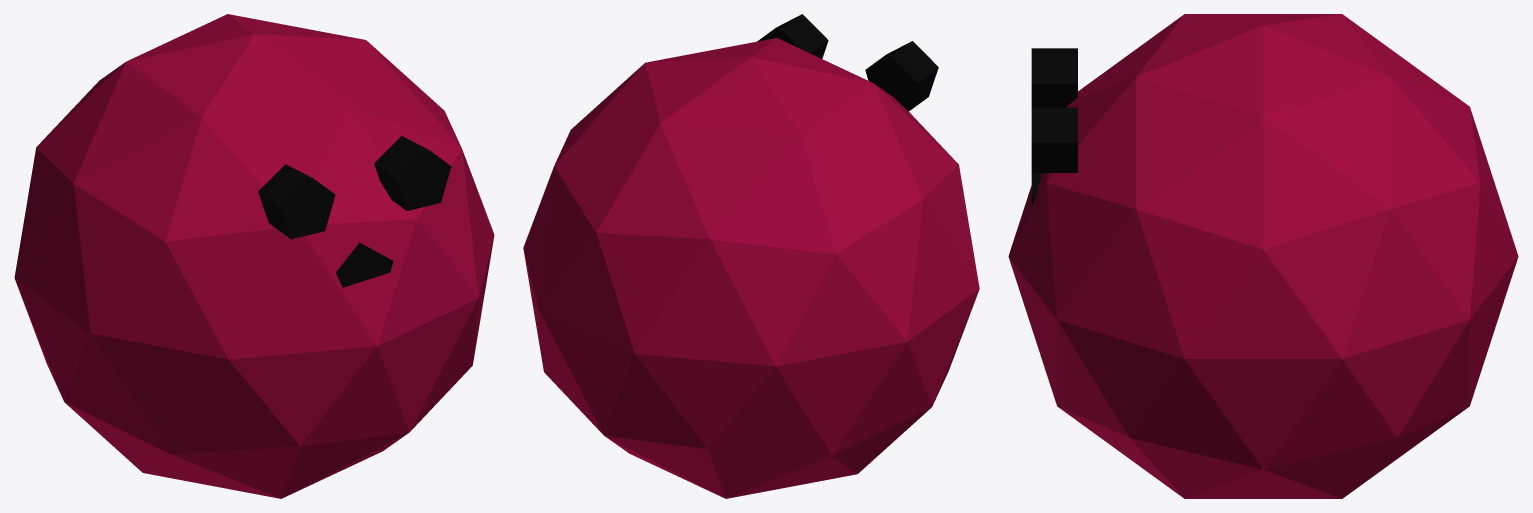
Rendered from bowling_ball_pink.obj.
The picture shows the model from 3 angles, left to right: view 1: azimuth 30°, elevation 25°; view 2: azimuth 150°, elevation 25°; view 3: azimuth 270°, elevation 25°; orthographic projection. The views are drawn at different scales.
Visible parts, largest first — view 1: bowling_ball_pink; view 2: bowling_ball_pink; view 3: bowling_ball_pink.
Boxes of the visible parts, left/top/right/bottom form: bowling_ball_pink: left=14, top=14, right=494, bottom=498; bowling_ball_pink: left=523, top=14, right=979, bottom=498; bowling_ball_pink: left=1008, top=14, right=1518, bottom=498.
Bounding box in the file's own units: 0.2092 × 0.22 × 0.22.
